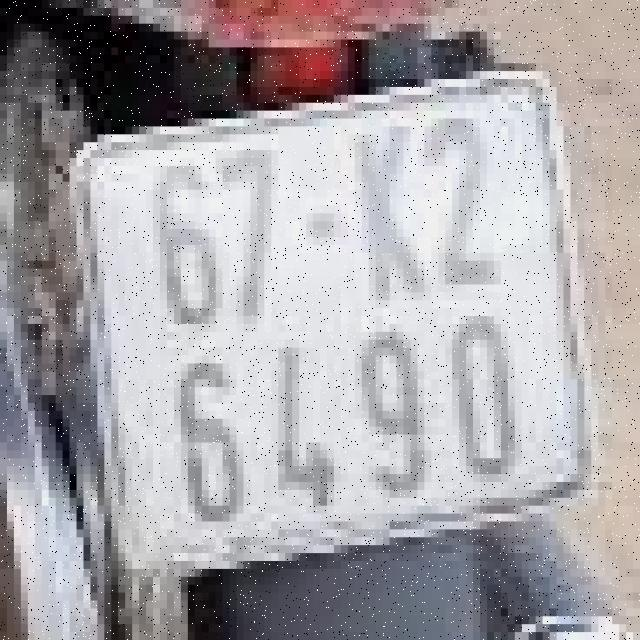0: (442, 316, 532, 482)
2: (431, 111, 501, 308)
4: (271, 340, 341, 506)
6: (163, 352, 254, 526), (146, 162, 223, 328)
7: (212, 150, 296, 332)
9: (351, 332, 435, 498)
K: (341, 119, 431, 308)
